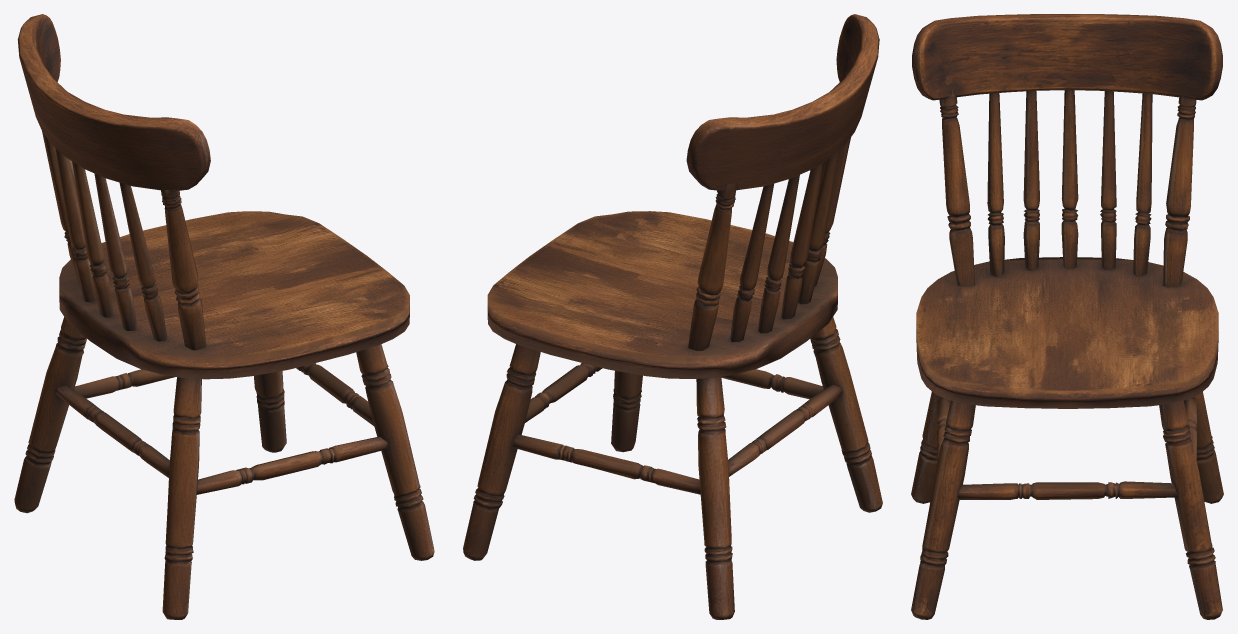
3 renders of one model, left to right at view 1: azimuth 30°, elevation 25°; view 2: azimuth 150°, elevation 25°; view 3: azimuth 270°, elevation 25°, orthographic. The views are drawn at different scales.
Parts seen in each view (by area): view 1: tripo_node_cee32bd5-f05c-4bf8-a84e-17e49990cf35; view 2: tripo_node_cee32bd5-f05c-4bf8-a84e-17e49990cf35; view 3: tripo_node_cee32bd5-f05c-4bf8-a84e-17e49990cf35.
Boxes of the visible parts, x1,y1,x2,y2 form: tripo_node_cee32bd5-f05c-4bf8-a84e-17e49990cf35: (14, 14, 434, 619); tripo_node_cee32bd5-f05c-4bf8-a84e-17e49990cf35: (463, 14, 882, 619); tripo_node_cee32bd5-f05c-4bf8-a84e-17e49990cf35: (911, 14, 1223, 619).
Bounding box in the file's own units: 0.6699 × 0.998 × 0.5918.
Materials: 1 (1 with a texture image).
